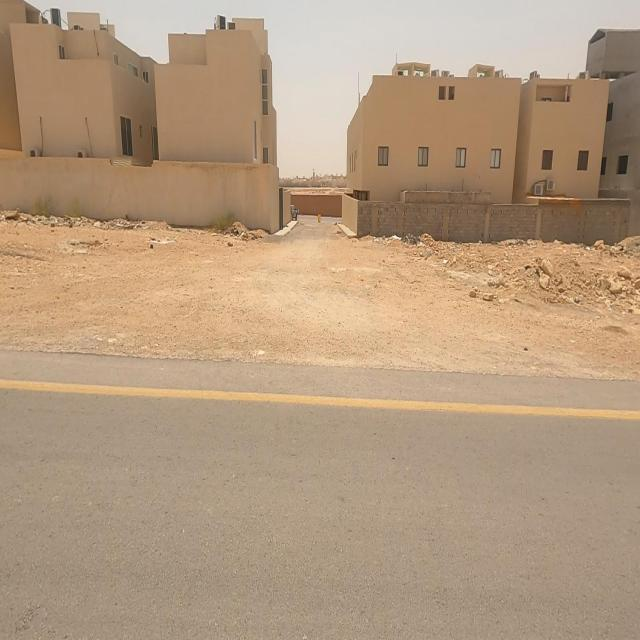debris: (388, 211, 440, 273), (360, 212, 412, 266), (134, 217, 180, 263)
